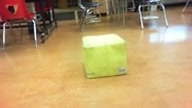cube: (82, 33, 128, 79)
